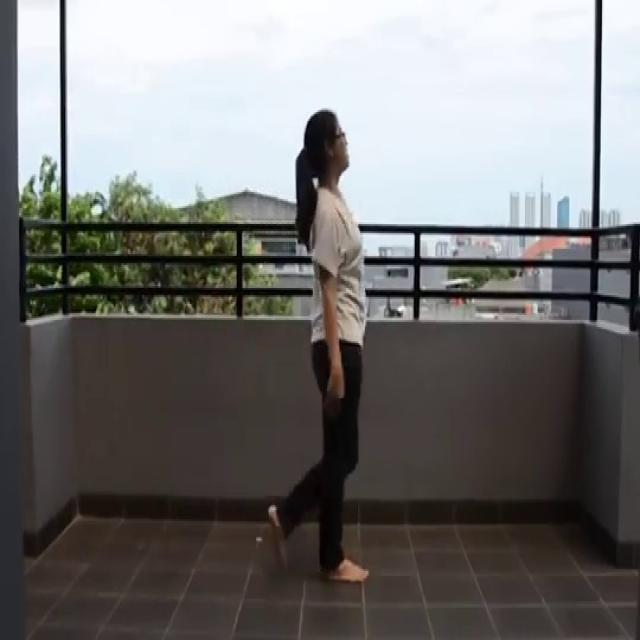normal: (263, 98, 382, 596)
